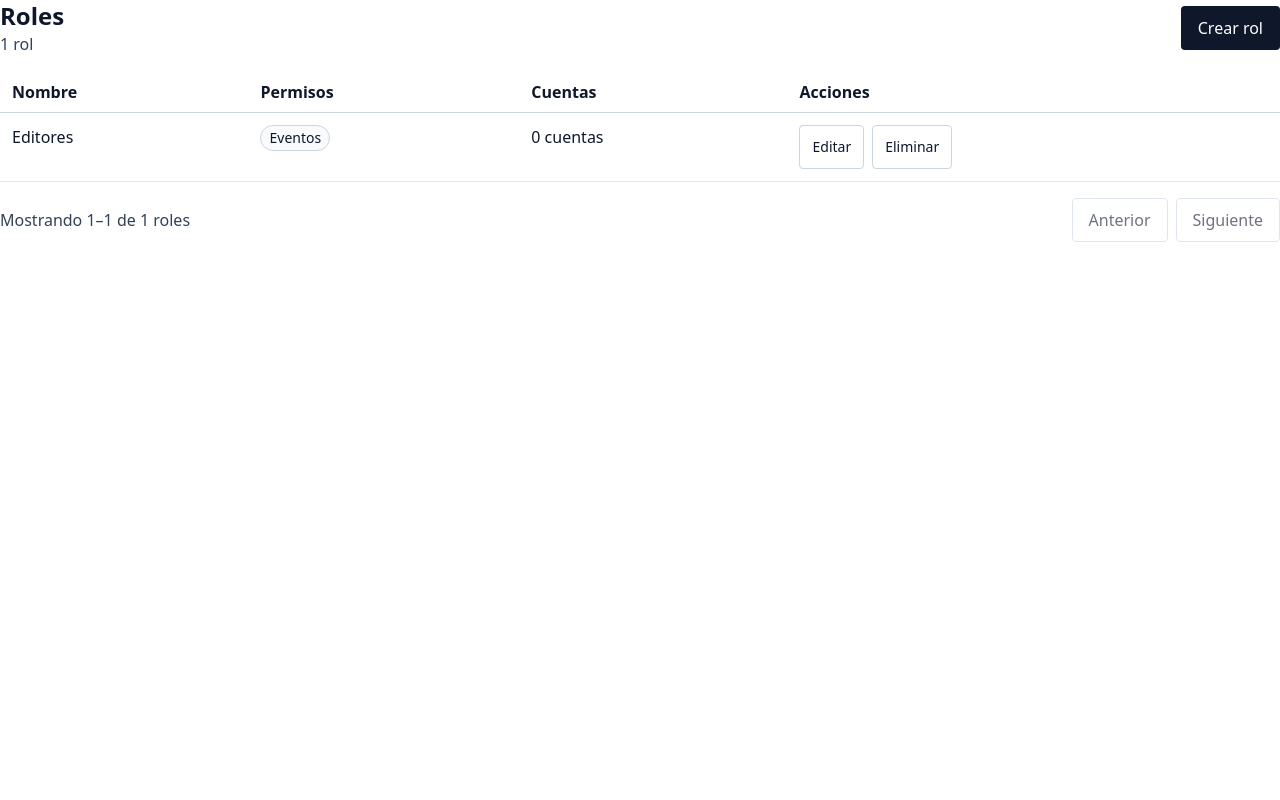
it: RoleForm · crear › con nombre duplicado normalizado muestra el mensaje de duplicado (SC-011)
The width and height of the screenshot is (1280, 800).
Expected: the table is shown, [0,72,1279,182]
Click the button "Crear rol".
click(1230, 28)  # box [1181,6,1279,50]
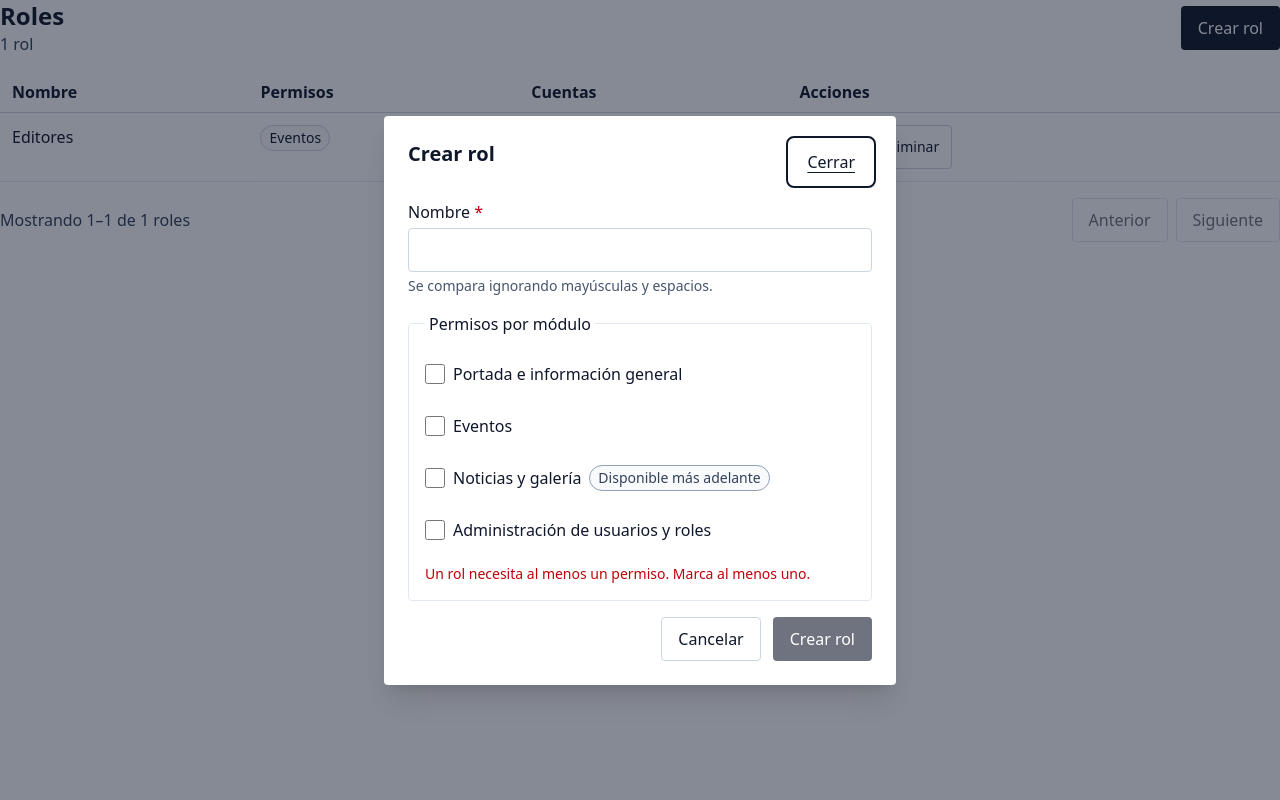
Type "  editores " into the field labelled "Nombre *".
click(640, 250); type("  editores ")  # box [408,228,872,272]
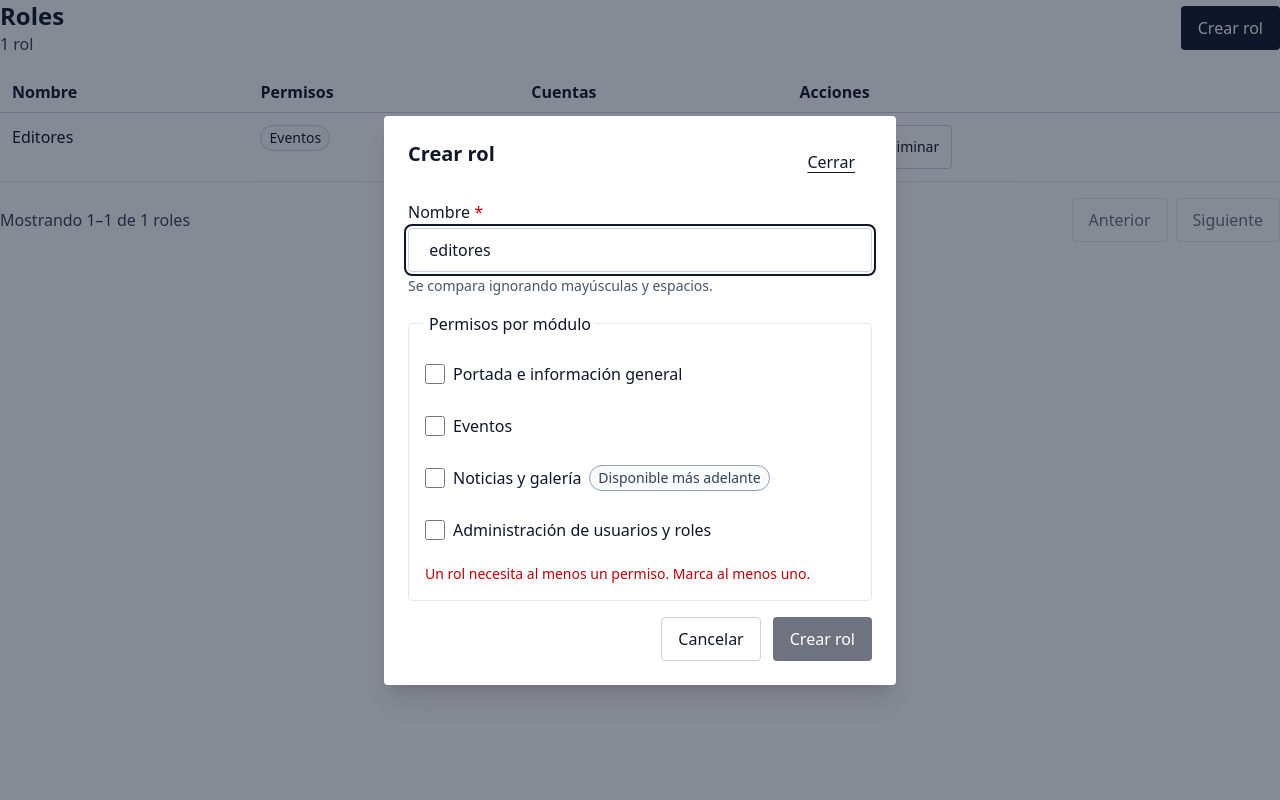
Click the checkbox labelled "Eventos".
click(435, 426)  # box [425,416,445,436]
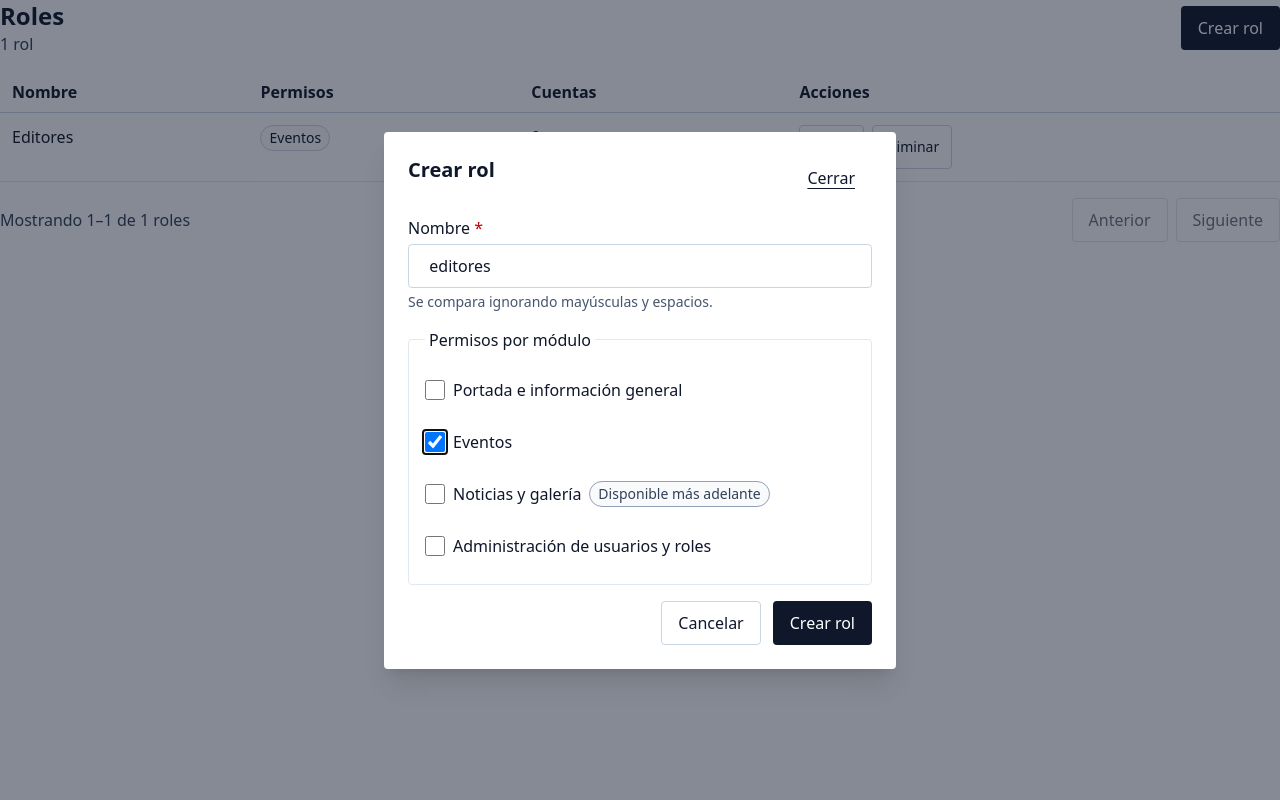
Click the button "Crear rol".
click(822, 622)  # box [773,600,872,644]
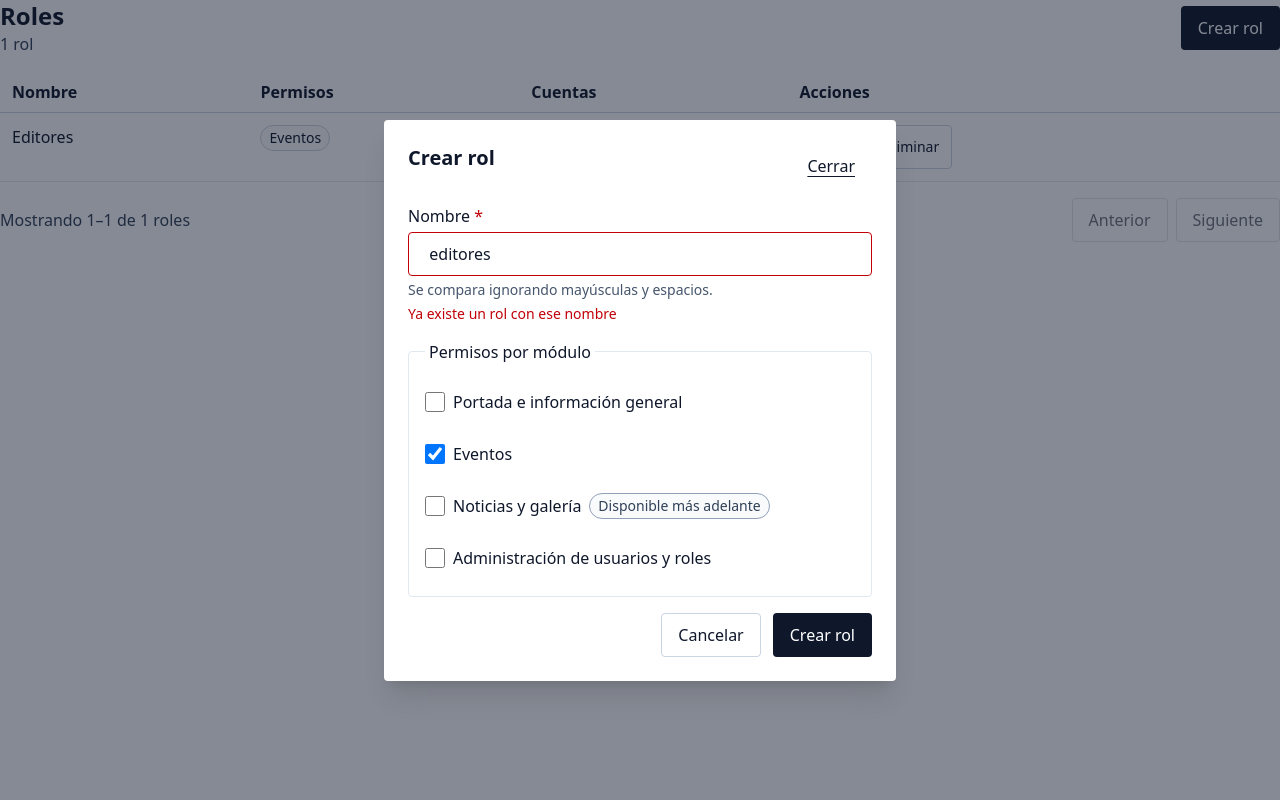
Expected: the text "Ya existe un rol con ese nombre" is shown, [408,304,617,322]
